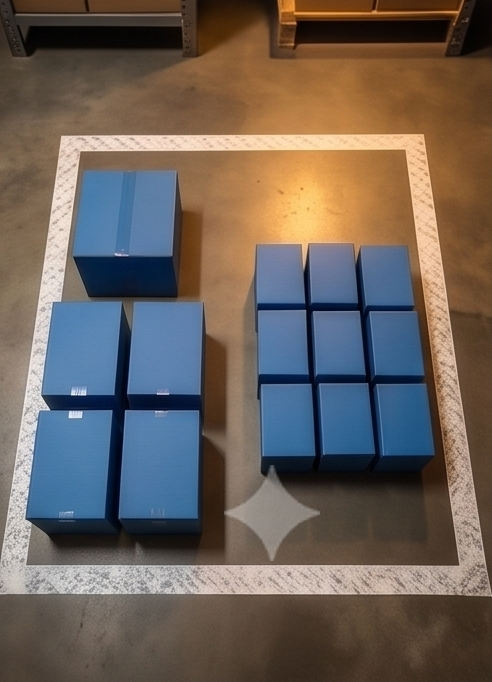blue_box: (72, 169, 184, 303), (23, 411, 124, 542), (119, 407, 202, 537), (45, 302, 131, 414), (125, 304, 206, 413), (373, 383, 436, 469), (319, 382, 376, 477), (260, 384, 316, 478), (257, 311, 312, 400), (363, 311, 426, 384), (356, 244, 413, 315), (313, 310, 368, 383), (305, 240, 357, 312), (256, 243, 302, 310)
container_box: (0, 132, 492, 596)
